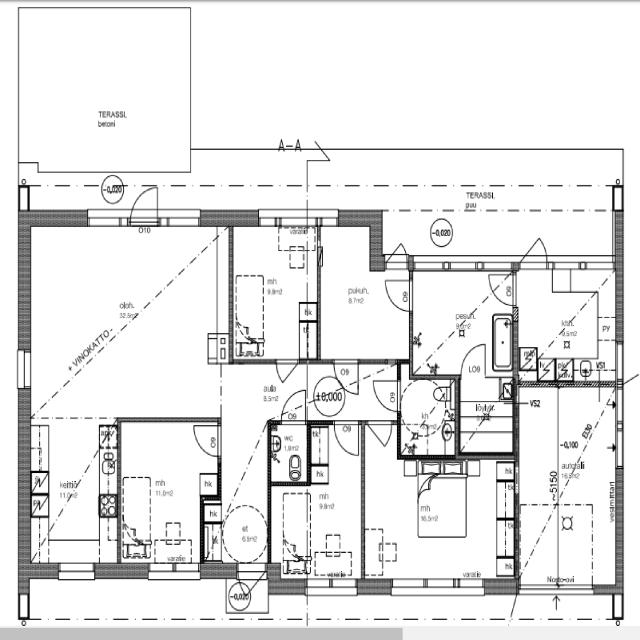door: (320, 360, 362, 416), (128, 184, 160, 226), (191, 419, 222, 458), (486, 266, 516, 306), (371, 376, 401, 413), (333, 419, 362, 457), (383, 273, 412, 311), (332, 358, 361, 395), (280, 388, 308, 424), (460, 340, 488, 375), (522, 235, 550, 265), (237, 564, 265, 594), (385, 242, 412, 271), (368, 418, 394, 448), (274, 356, 298, 384)
window: (549, 254, 612, 272), (392, 578, 469, 592), (416, 257, 481, 273), (306, 576, 357, 595), (57, 560, 96, 580), (613, 415, 626, 473), (162, 211, 202, 229), (17, 346, 33, 391), (612, 384, 624, 442), (86, 212, 125, 228), (147, 560, 181, 576), (215, 421, 225, 458), (318, 214, 342, 226)
zone: (388, 464, 514, 584), (118, 419, 215, 558), (316, 222, 402, 362), (513, 263, 618, 377), (230, 224, 316, 360), (35, 420, 115, 560), (410, 269, 499, 373), (286, 458, 364, 574), (399, 375, 458, 455), (458, 373, 515, 453), (274, 482, 314, 574), (467, 322, 516, 374), (269, 422, 308, 482), (492, 314, 514, 374)
